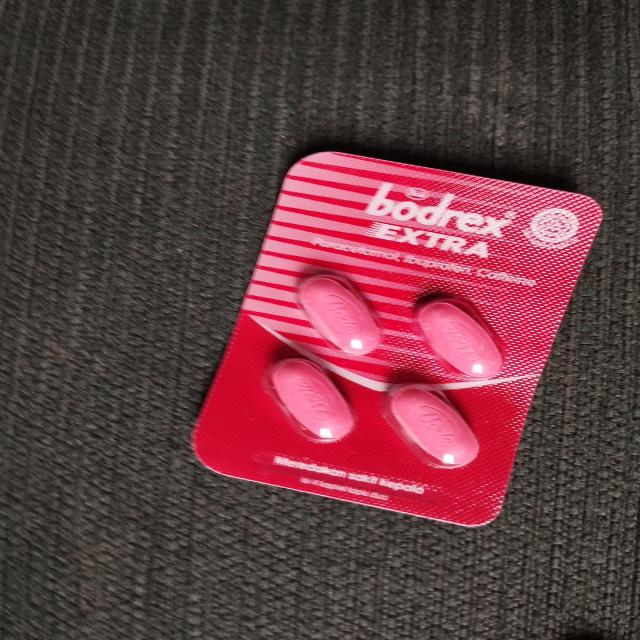B3: (188, 149, 604, 531)
